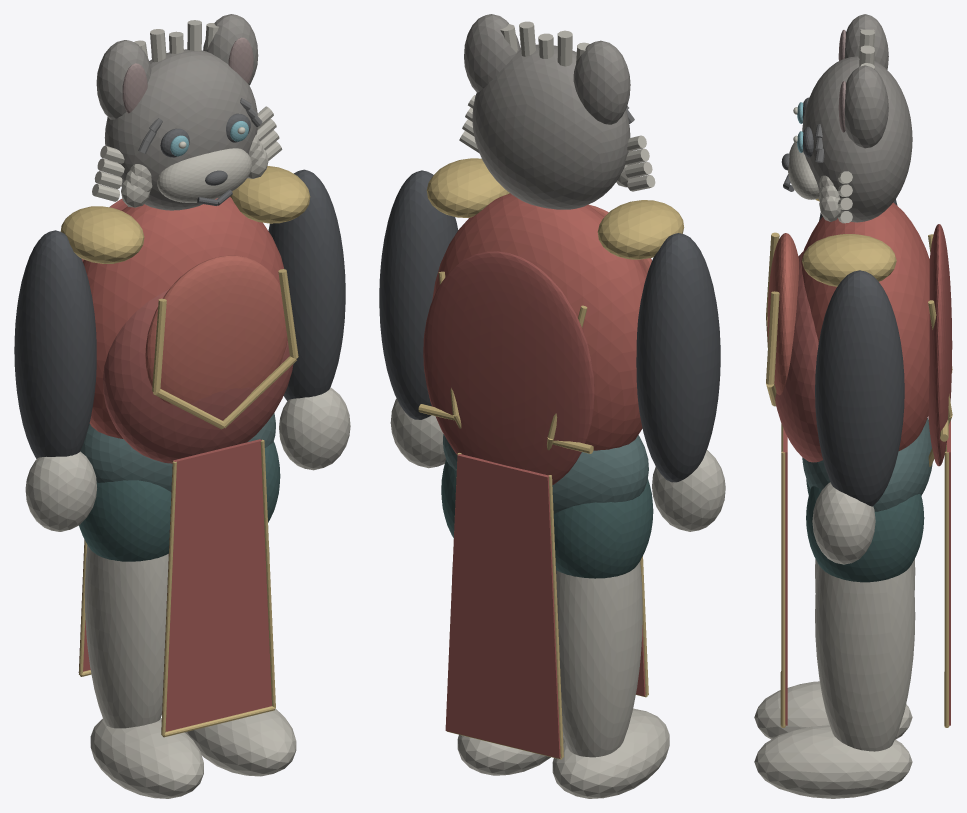
Rendered from high_prototype (1).glb.
3 renders of one model, left to right at view 1: azimuth 30°, elevation 25°; view 2: azimuth 150°, elevation 25°; view 3: azimuth 270°, elevation 25°, orthographic. The views are drawn at different scales.
Parts seen in each view (by area): view 1: front_hanging_fabric_062, chest_armor_055, arm_-1_006, torso_001, leg_-1_004, belly_clothing_003, head_016, arm_1_012, paw_-1_005, short_leg_-1_060, paw_1_011, hand_-1_007 (+15 smaller); view 2: back_coat_051, back_hanging_fabric_066, torso_001, head_016, arm_-1_006, leg_-1_004, arm_1_012, short_leg_-1_060, paw_-1_005, hips_002, hand_-1_007, gold_shoulder_057 (+8 smaller); view 3: arm_1_012, leg_1_010, torso_001, head_016, paw_1_011, short_leg_1_061, belly_clothing_003, back_coat_051, hand_1_013, gold_shoulder_059, chest_armor_055, hips_002 (+10 smaller).
Part boxes in pixels (left/top/right/bottom): front_hanging_fabric_062: left=161, top=439, right=271, bottom=731; chest_armor_055: left=145, top=255, right=287, bottom=404; arm_-1_006: left=14, top=230, right=96, bottom=458; torso_001: left=83, top=197, right=284, bottom=438; leg_-1_004: left=84, top=545, right=168, bottom=728; belly_clothing_003: left=103, top=289, right=293, bottom=463; head_016: left=104, top=49, right=257, bottom=210; arm_1_012: left=268, top=169, right=345, bottom=400; paw_-1_005: left=90, top=718, right=203, bottom=798; short_leg_-1_060: left=79, top=480, right=171, bottom=561; paw_1_011: left=185, top=708, right=296, bottom=776; hand_-1_007: left=25, top=451, right=96, bottom=531; back_coat_051: left=423, top=251, right=594, bottom=485; back_hanging_fabric_066: left=445, top=454, right=560, bottom=758; torso_001: left=432, top=193, right=646, bottom=450; head_016: left=472, top=44, right=630, bottom=209; arm_-1_006: left=636, top=233, right=720, bottom=482; leg_-1_004: left=556, top=561, right=642, bottom=757; arm_1_012: left=379, top=170, right=458, bottom=419; short_leg_-1_060: left=553, top=479, right=653, bottom=578; paw_-1_005: left=552, top=708, right=669, bottom=798; hips_002: left=443, top=434, right=648, bottom=513; hand_-1_007: left=652, top=450, right=725, bottom=531; gold_shoulder_057: left=597, top=200, right=684, bottom=259; arm_1_012: left=815, top=270, right=904, bottom=506; leg_1_010: left=815, top=564, right=915, bottom=751; torso_001: left=801, top=202, right=929, bottom=450; head_016: left=802, top=56, right=912, bottom=222; paw_1_011: left=754, top=725, right=912, bottom=798; short_leg_1_061: left=806, top=486, right=924, bottom=582; belly_clothing_003: left=775, top=252, right=822, bottom=462; back_coat_051: left=928, top=224, right=952, bottom=466; hand_1_013: left=812, top=482, right=875, bottom=564; gold_shoulder_059: left=802, top=234, right=896, bottom=286; chest_armor_055: left=767, top=233, right=798, bottom=395; hips_002: left=802, top=418, right=932, bottom=511.
Bounding box in the file's own units: 0.69 × 1.53 × 0.3759.
